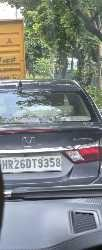License plate: (0, 156, 62, 172)
